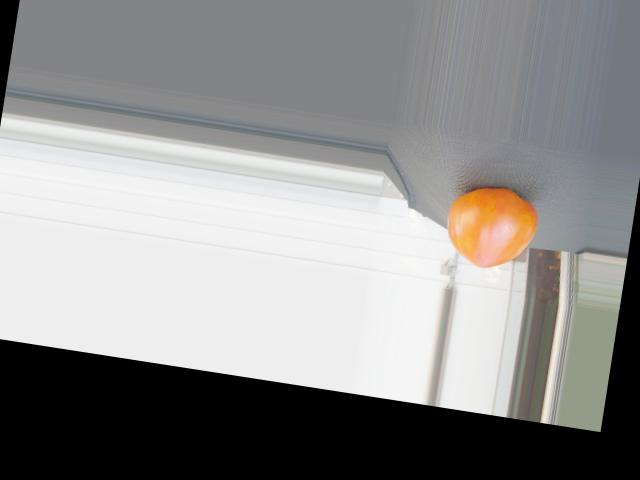tomato: (440, 181, 542, 275)
